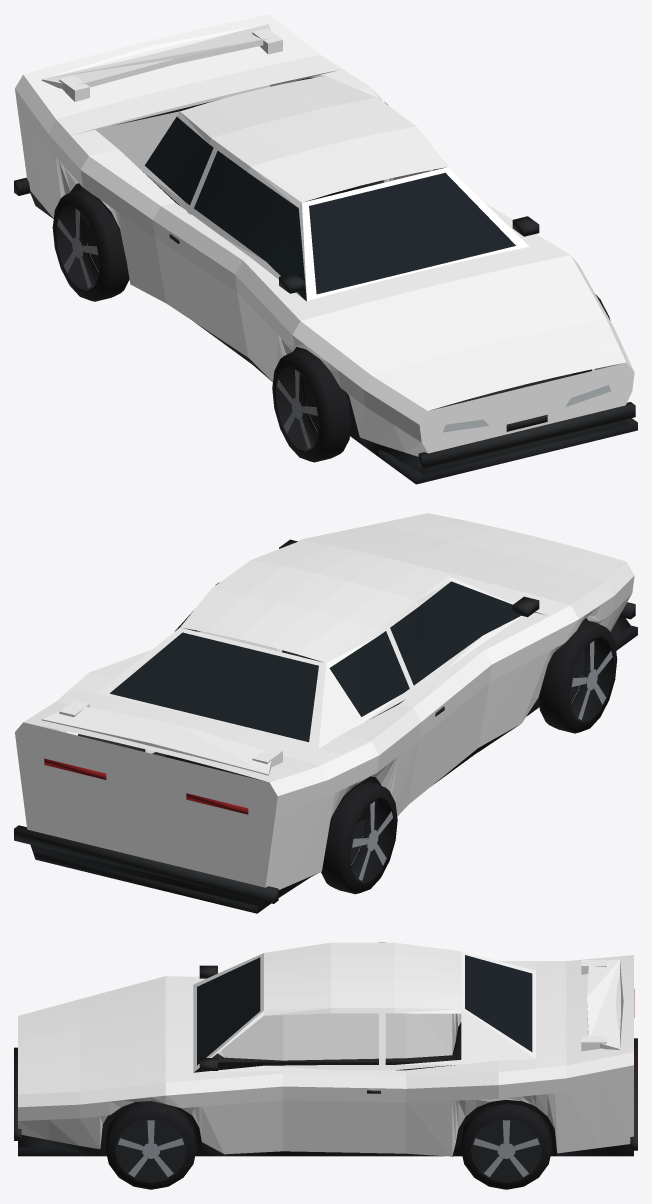
Rendered from rauhe_quartzo.glb.
The picture shows the model from 3 angles, top to bottom: view 1: azimuth 30°, elevation 25°; view 2: azimuth 150°, elevation 25°; view 3: azimuth 270°, elevation 25°; orthographic projection. The views are drawn at different scales.
Visible parts, largest first — view 1: Body_Paint, Body_Details, Mount_FrontLeft_Wheel_Details, Mount_RearLeft_Wheel_Details; view 2: Body_Paint, Body_Details, Mount_FrontLeft_Wheel_Details, Mount_RearLeft_Wheel_Details; view 3: Body_Paint, Body_Details, Mount_FrontRight_Wheel_Details, Mount_RearRight_Wheel_Details.
Boxes of the visible parts, bbox=[...] form: Body_Paint: bbox=[15, 14, 634, 456]; Body_Details: bbox=[14, 77, 637, 484]; Mount_FrontLeft_Wheel_Details: bbox=[272, 349, 351, 462]; Mount_RearLeft_Wheel_Details: bbox=[52, 188, 129, 301]; Body_Paint: bbox=[15, 513, 634, 889]; Body_Details: bbox=[14, 539, 637, 913]; Mount_FrontLeft_Wheel_Details: bbox=[538, 620, 617, 733]; Mount_RearLeft_Wheel_Details: bbox=[321, 781, 397, 894]; Body_Paint: bbox=[18, 942, 633, 1156]; Body_Details: bbox=[14, 955, 637, 1156]; Mount_FrontRight_Wheel_Details: bbox=[105, 1101, 196, 1189]; Mount_RearRight_Wheel_Details: bbox=[460, 1103, 552, 1189].
Size of the model in its own units: 1.98 by 1.26 by 4.43.
Materials: 2 (1 with a texture image).
